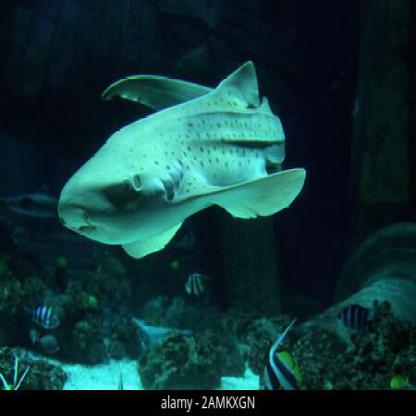zebra_shark: (50, 56, 312, 269)
